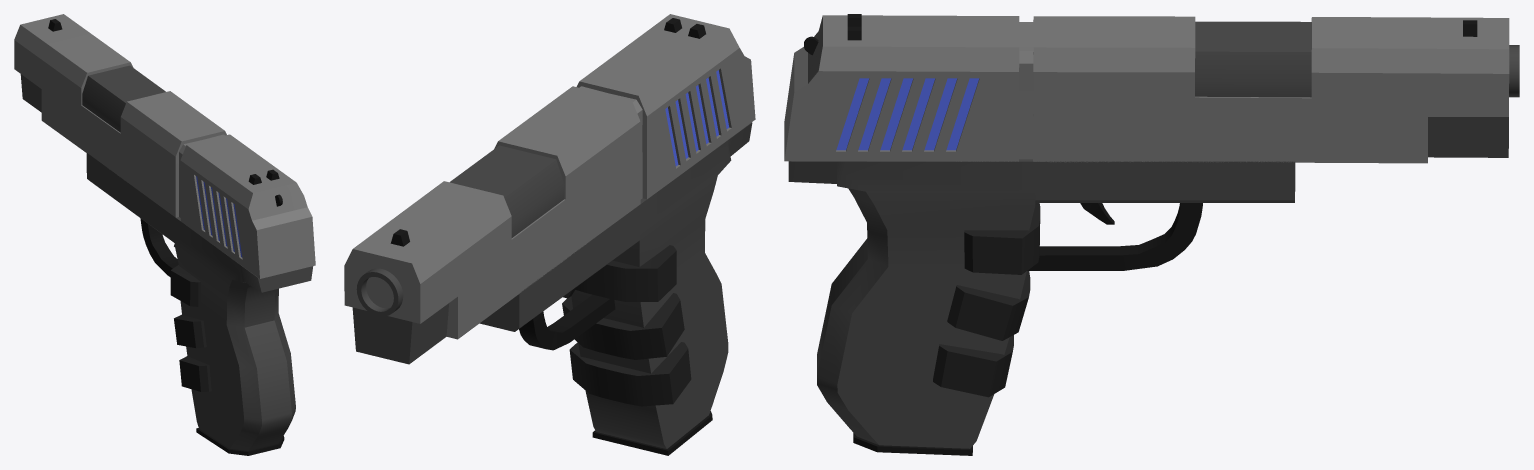
The model's file is Pistol.fbx.
3 renders of one model, left to right at view 1: azimuth 30°, elevation 25°; view 2: azimuth 150°, elevation 25°; view 3: azimuth 270°, elevation 25°, orthographic. The views are drawn at different scales.
Visible parts, largest first — view 1: Pistol_Top, Pistol; view 2: Pistol_Top, Pistol; view 3: Pistol_Top, Pistol.
Boxes of the visible parts, x1,y1,x2,y2 form: Pistol_Top: (14,14,315,278); Pistol: (82,65,313,455); Pistol_Top: (344,14,755,364); Pistol: (356,122,752,455); Pistol_Top: (784,14,1509,163); Pistol: (788,21,1519,455).
Bounding box in the file's own units: 5.47 × 19.94 × 32.11.
